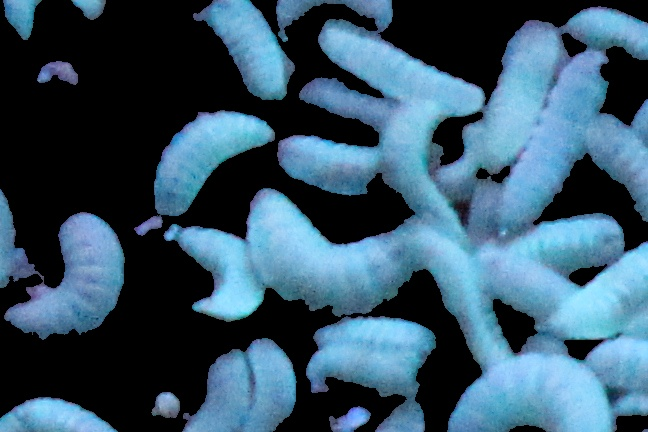larvae: (236, 178, 438, 323), (309, 1, 486, 124), (498, 51, 603, 227), (147, 99, 282, 226), (9, 199, 126, 341), (474, 11, 567, 166), (453, 353, 605, 432), (161, 216, 270, 326), (424, 250, 506, 368), (545, 253, 648, 340), (210, 1, 288, 106), (378, 96, 448, 198), (310, 339, 429, 398), (263, 1, 401, 49), (588, 113, 648, 220), (315, 307, 438, 357), (281, 134, 386, 192), (512, 215, 626, 267), (479, 251, 579, 310), (241, 338, 301, 432), (193, 339, 249, 432), (564, 1, 648, 60), (297, 75, 380, 121)
